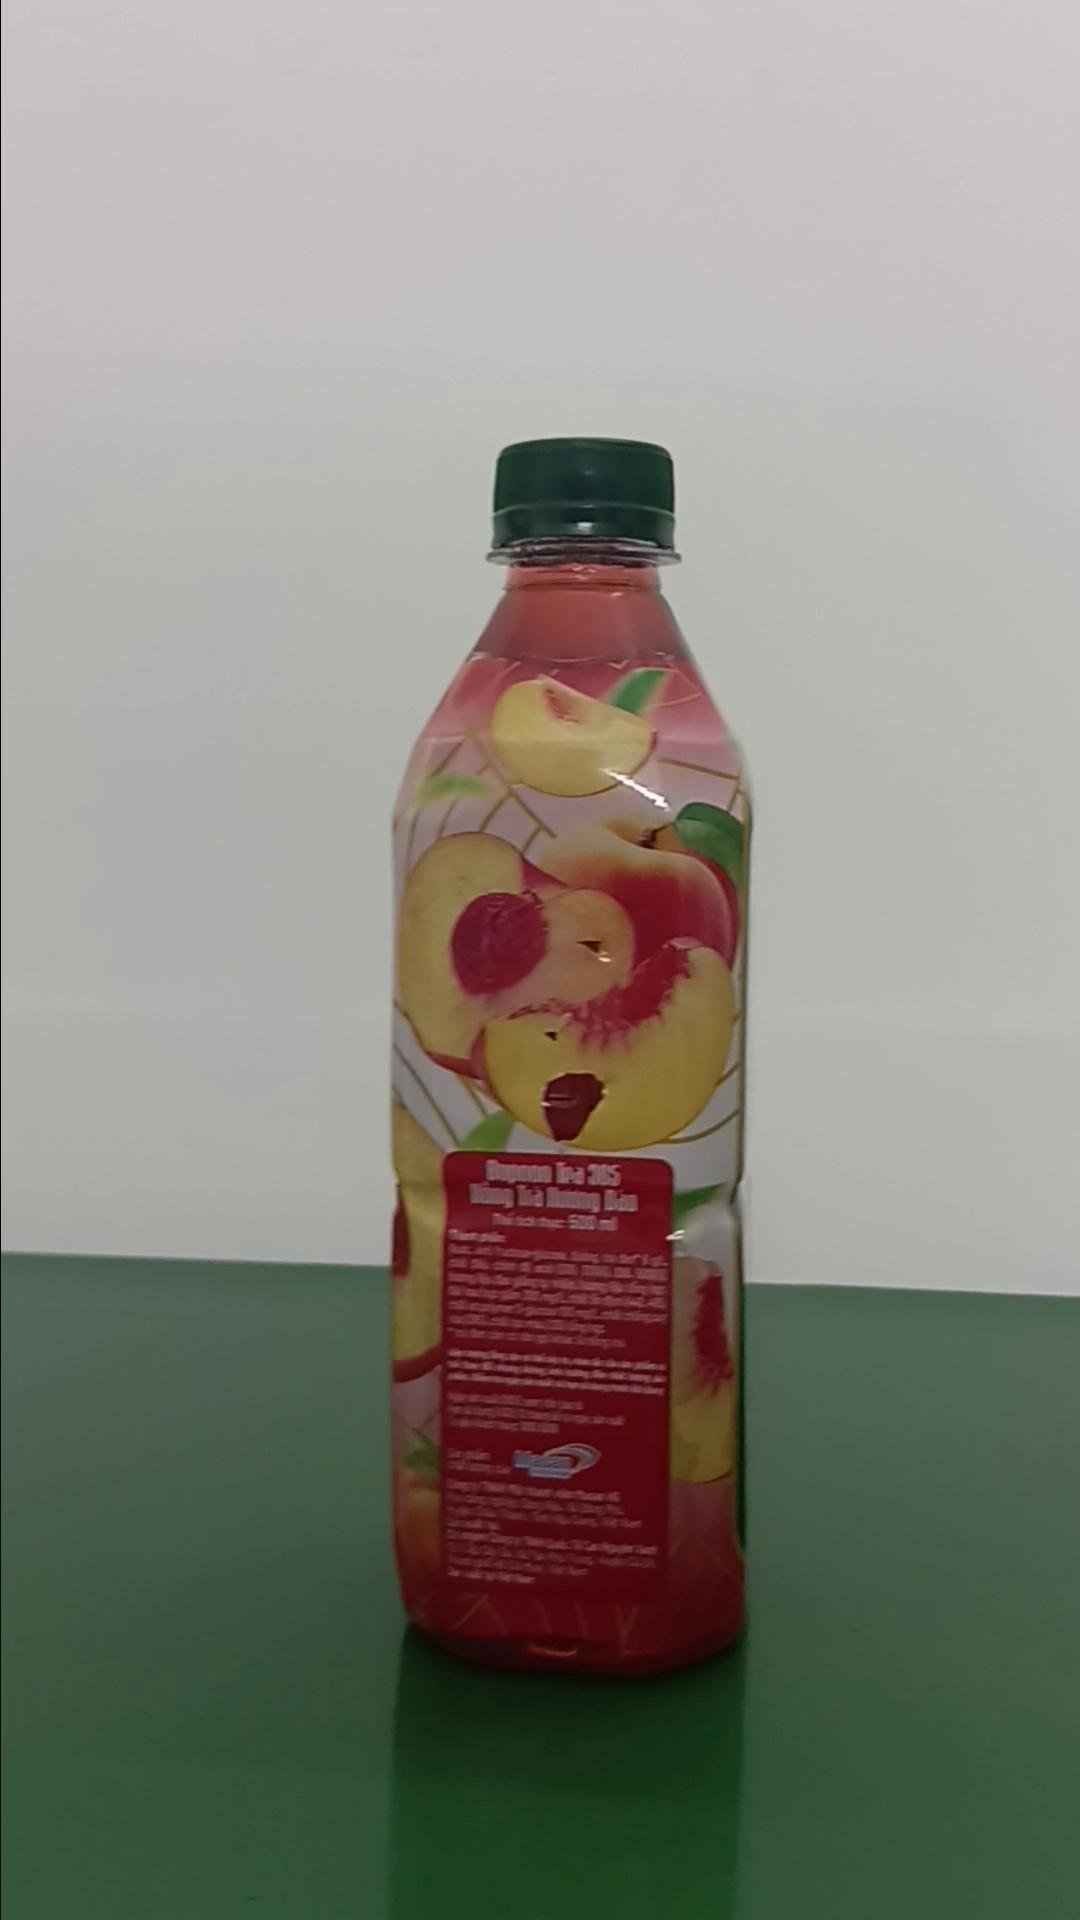loi rach va lap chai: (374, 420, 760, 1690)
